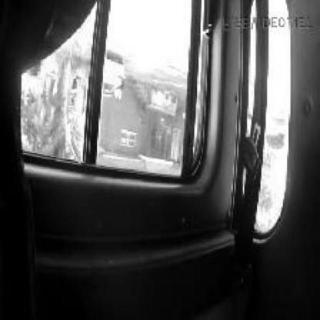other: (18, 63, 46, 96)
